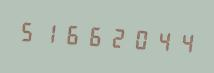five: (17, 13, 38, 48)
four: (149, 23, 170, 57), (171, 24, 192, 58)
one: (39, 15, 60, 49)
six: (61, 16, 82, 51), (83, 18, 104, 52)
two: (105, 19, 126, 54)
zero: (127, 21, 148, 55)
